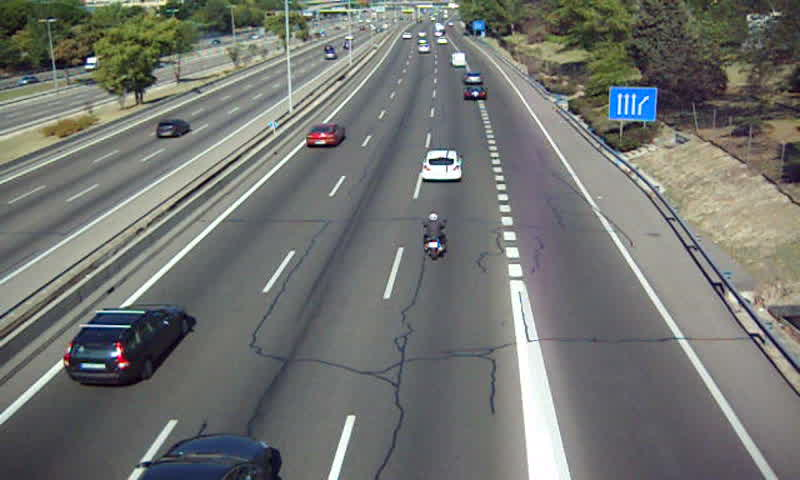car: (63, 303, 193, 387), (423, 150, 462, 182), (306, 122, 345, 147), (463, 86, 488, 100), (462, 71, 484, 86)
motorcycle: (420, 213, 447, 262)
van: (450, 51, 467, 67)
